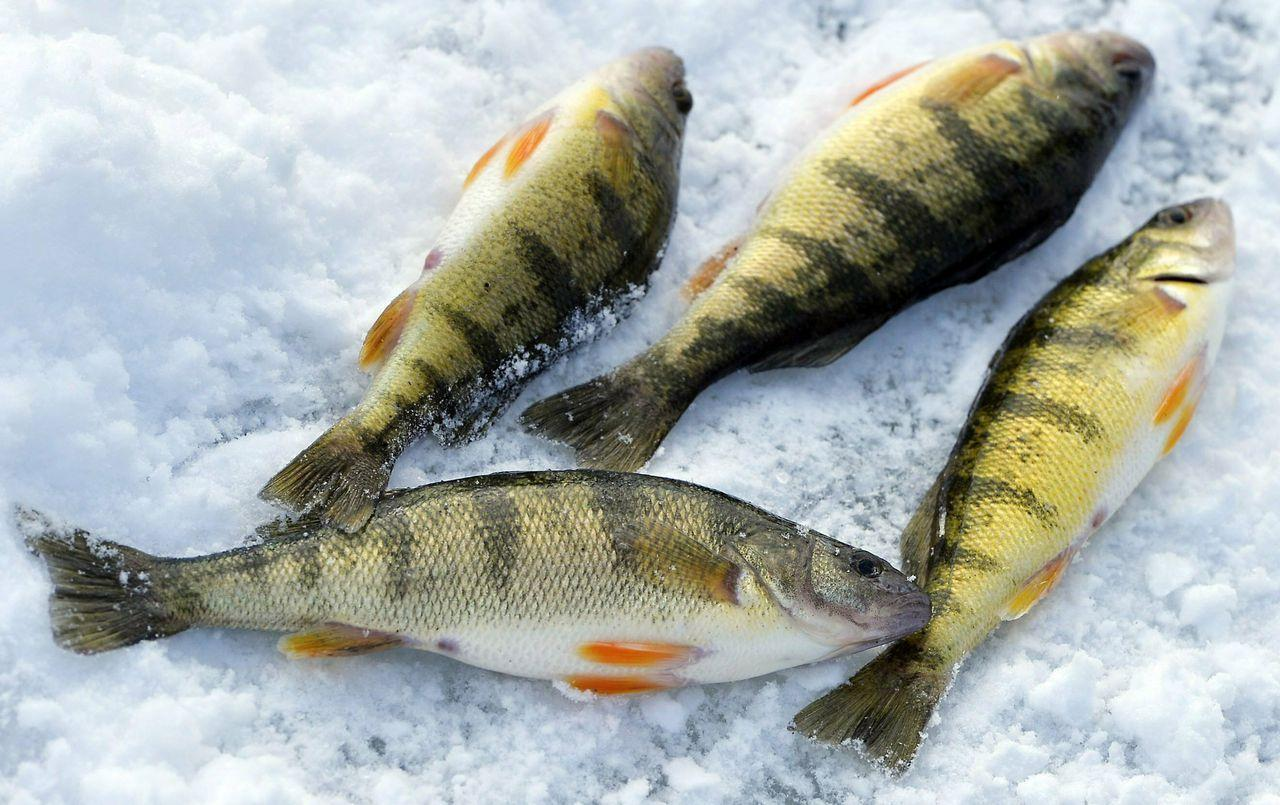Perch: (520, 6, 1151, 482), (792, 192, 1235, 772), (255, 26, 686, 534), (41, 476, 920, 720)
